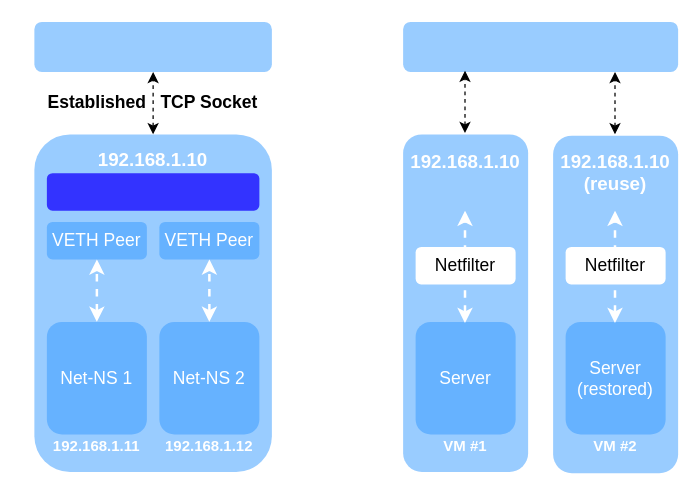
This 699x494 diagram has some shape labels left out. The shapes that lost their labels are listed below. From the top down, each one's box as (x1, y1, x2, y2) in pixels, then its label:
(34, 21, 271, 71): Outside Network
(402, 21, 678, 71): VM #3: Client
(46, 172, 259, 210): Local Bridge
